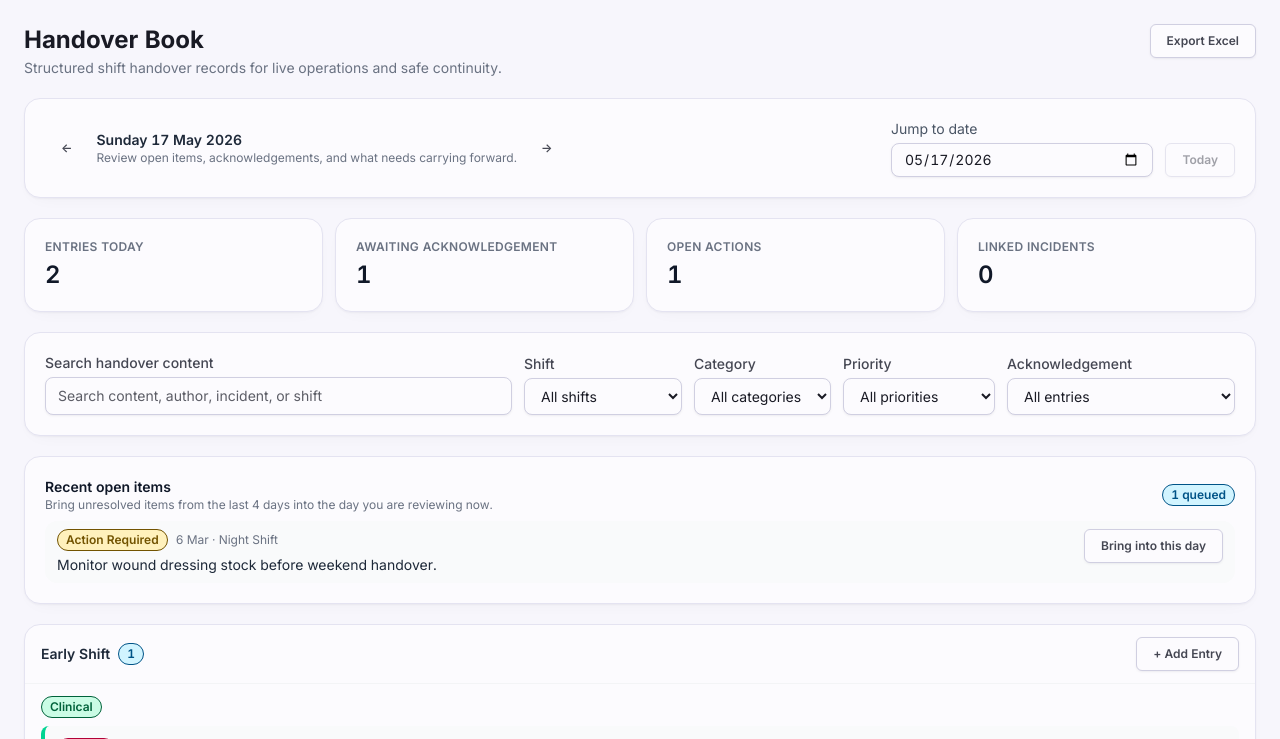
Test case: HandoverNotes › opens add modal when Add Entry is clicked
Click the button "+ Add Entry". click: (1188,654)
box: [1136,637,1239,671]
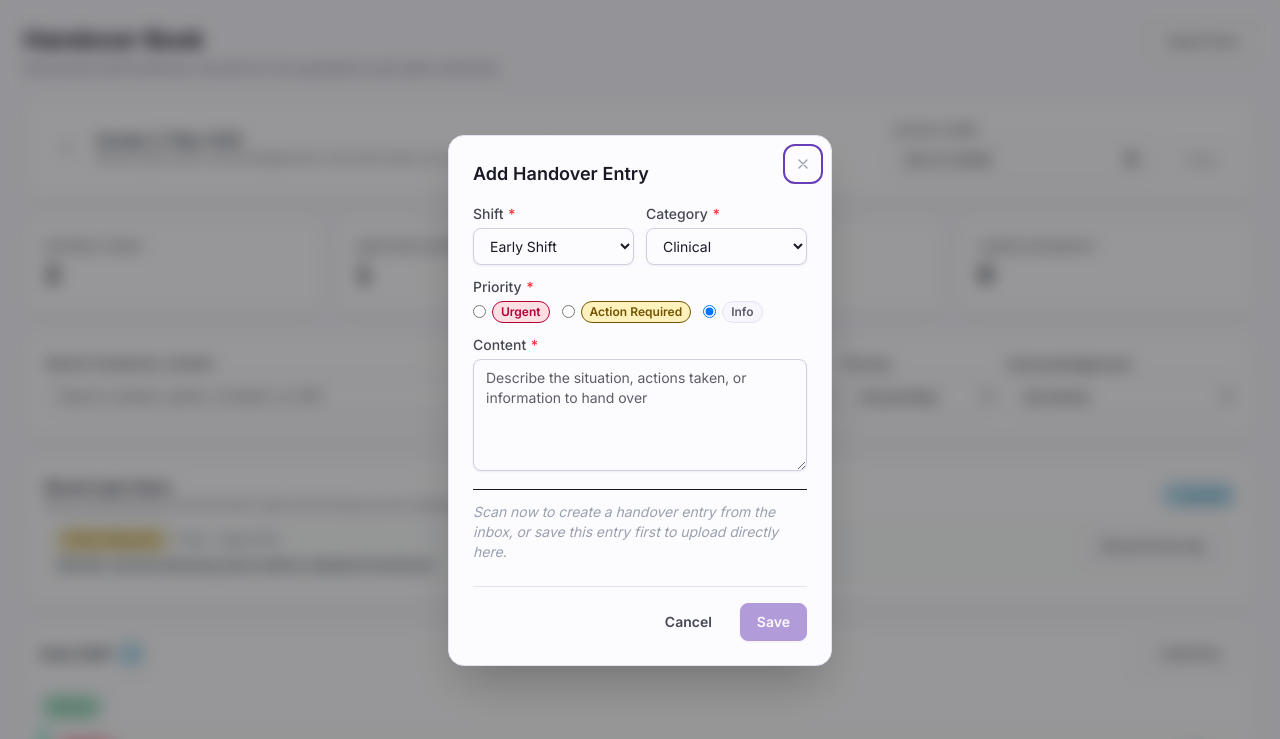
expect the heading "Add Handover Entry" is shown: met, box [473,162,649,184]
